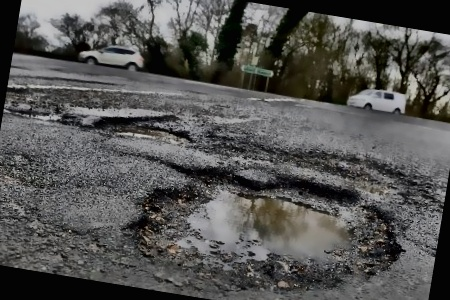pothole: (125, 150, 414, 300), (93, 101, 199, 151)
